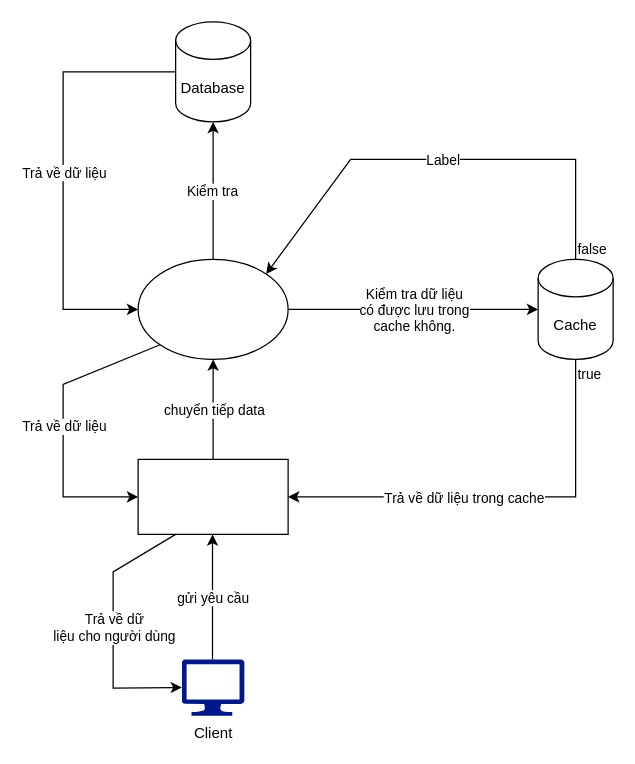
Image size: 635x764. Some labels were removed from this diagram. Each missing label, with the box of its shape:
Controller: (137, 458, 288, 534)
Service: (137, 258, 288, 359)
